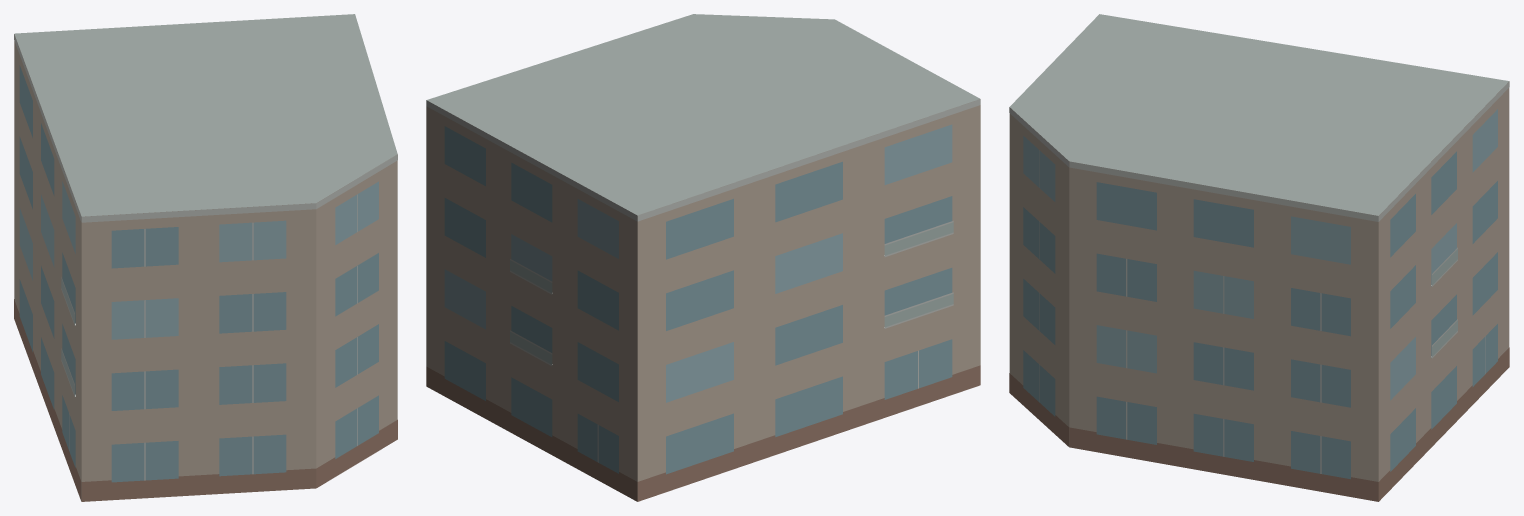
The model's file is survey-upis-32933085.glb.
3 views of the same model, side by side, from view 1: azimuth 30°, elevation 25°; view 2: azimuth 150°, elevation 25°; view 3: azimuth 270°, elevation 25° (orthographic).
Parts seen in each view (by area): view 1: survey-upis-32933085.tmp; view 2: survey-upis-32933085.tmp; view 3: survey-upis-32933085.tmp.
Boxes of the visible parts, x1=… form: survey-upis-32933085.tmp: x1=14, y1=14, x2=397, y2=501; survey-upis-32933085.tmp: x1=426, y1=14, x2=980, y2=501; survey-upis-32933085.tmp: x1=1009, y1=14, x2=1509, y2=501.
Bounding box in the file's own units: 17.27 × 11.4 × 18.07.
